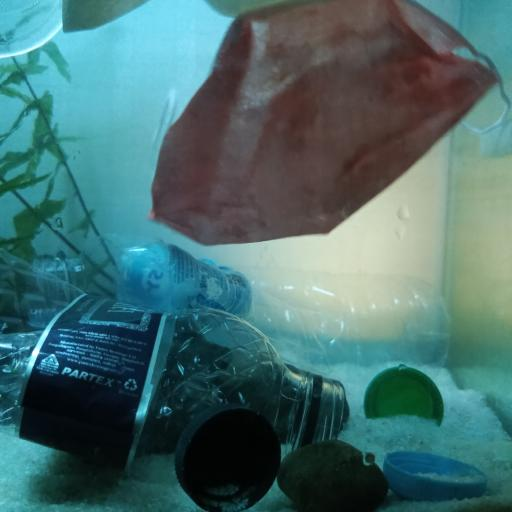bottle_cap: (171, 401, 282, 512), (382, 448, 488, 500), (364, 366, 445, 422)
mask: (146, 0, 510, 247)
plastic_bottle: (0, 245, 347, 472), (32, 242, 452, 390)
